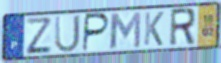K: (142, 11, 165, 47)
M: (108, 10, 143, 50)
P: (81, 12, 111, 54)
R: (168, 6, 197, 49)
U: (54, 14, 82, 54)
Z: (24, 16, 53, 56)
